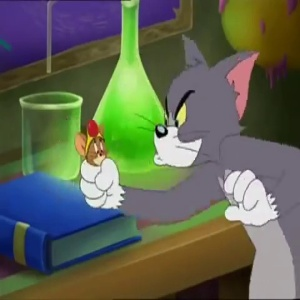Jerry: (75, 123, 109, 164)
Tom: (144, 21, 257, 171)
